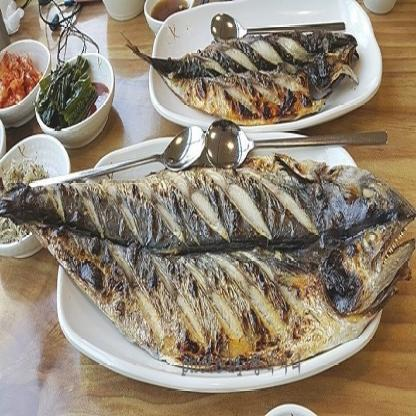Peixe: (0, 147, 412, 382), (106, 25, 375, 125)
